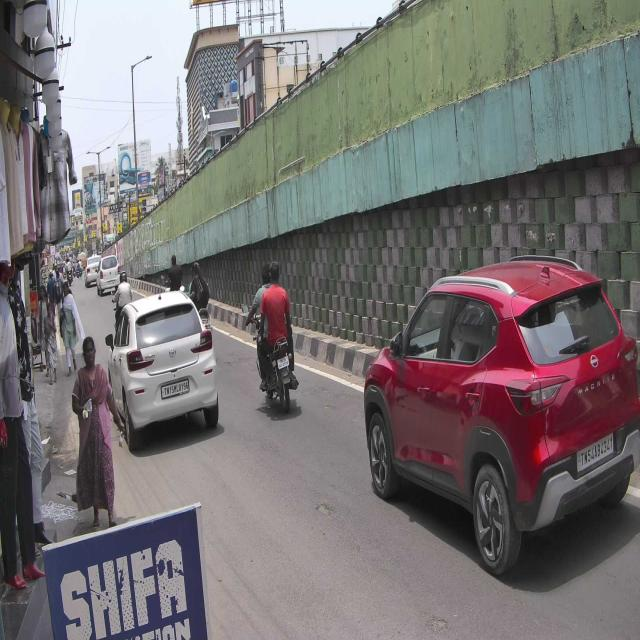double_rider: (245, 258, 300, 411)
